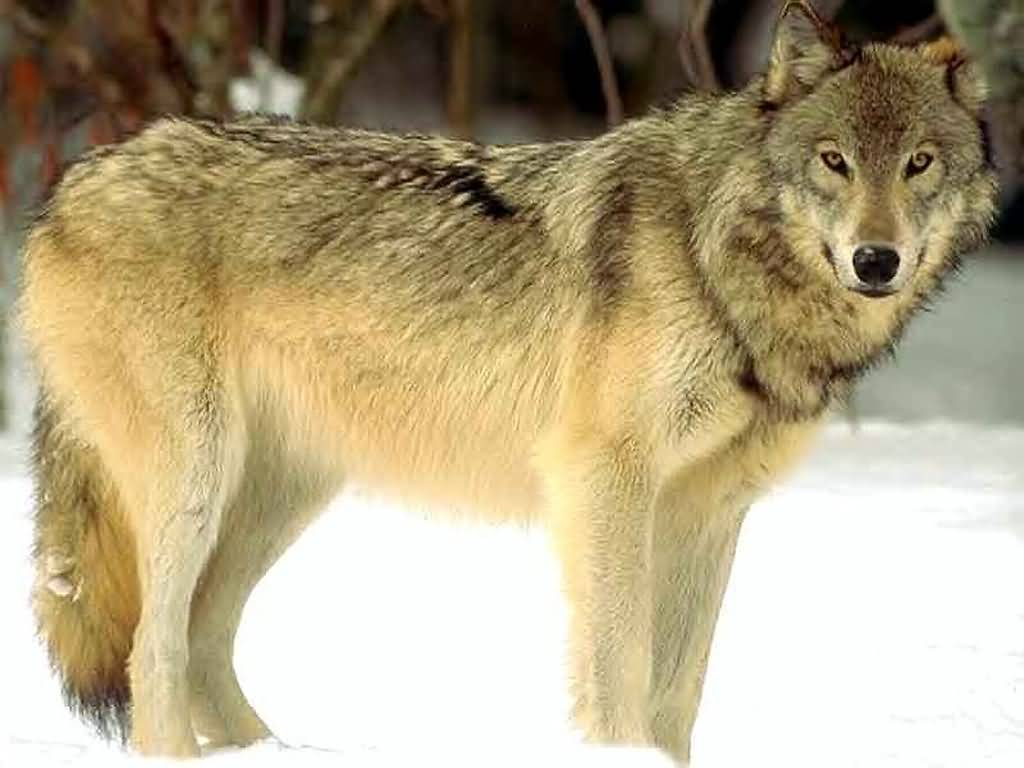wolf: (17, 1, 999, 758)
